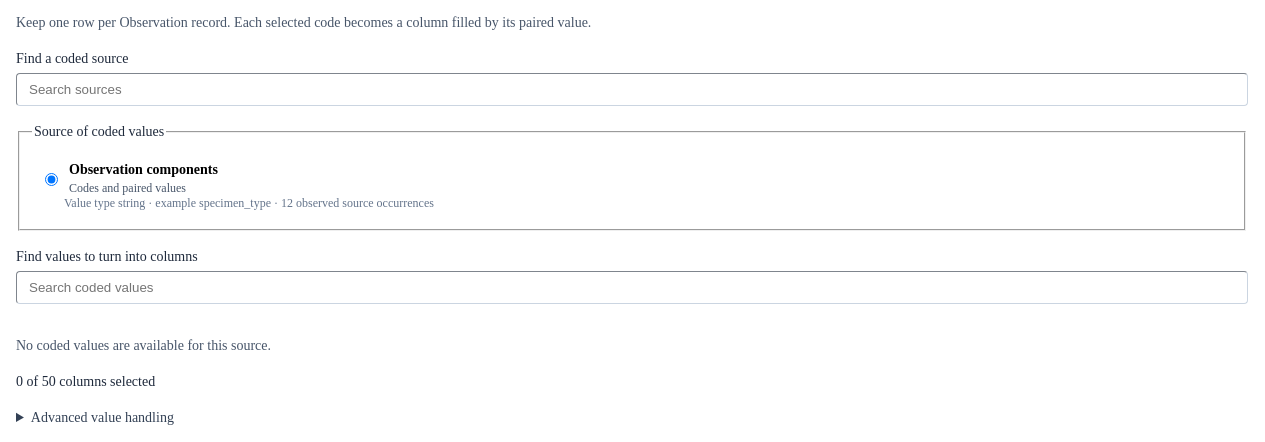
CodedPivotEditor › keeps search optional and distinguishes an empty source from an empty search
The width and height of the screenshot is (1265, 442).
Check: the text "No coded values are available for this source." is shown, box 16,338 -> 271,353
Type "missing-code" into the search field with placeholder "Search coded values" at (632, 287), box 16,271 -> 1248,304
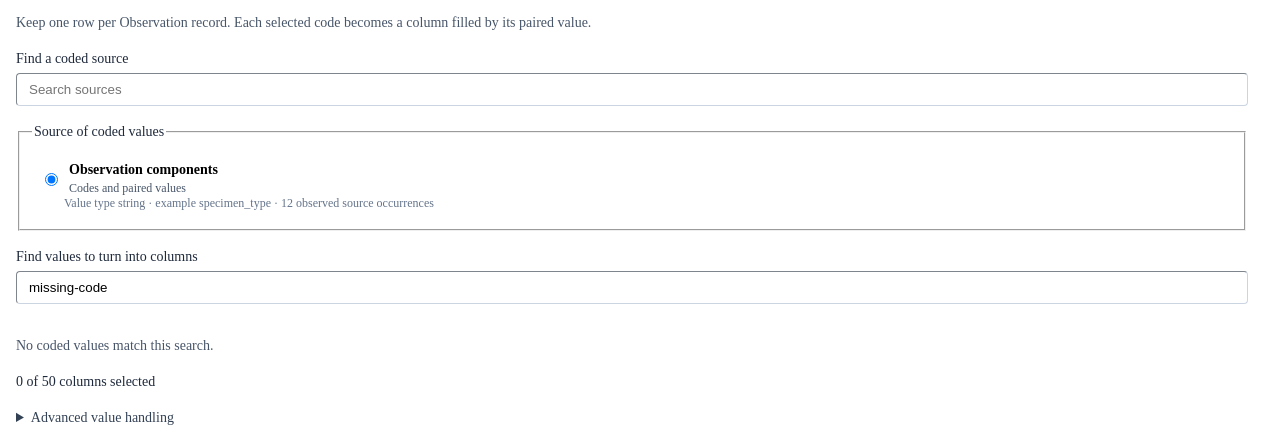
Check: the text "No coded values match this search." is shown, box 16,338 -> 214,353
